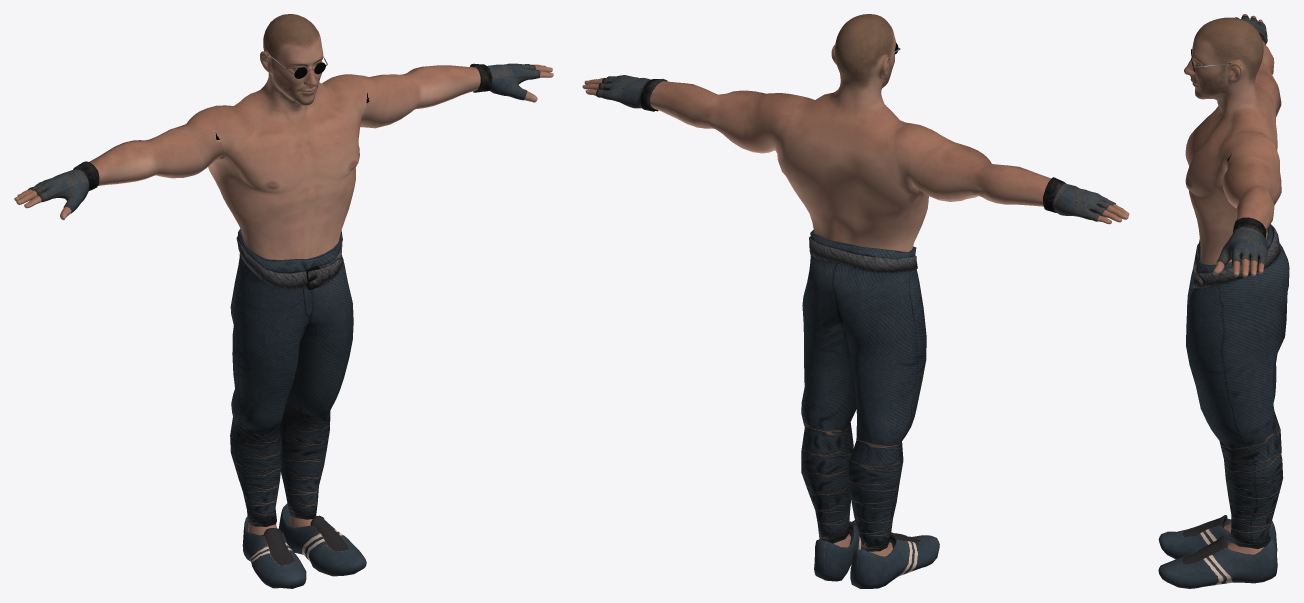
Rendered from Joni.obj.
3 views of the same model, side by side, from view 1: azimuth 30°, elevation 25°; view 2: azimuth 150°, elevation 25°; view 3: azimuth 270°, elevation 25° (orthographic).
Visible parts, largest first — view 1: Body, Bottoms, Shoes, Gloves; view 2: Body, Bottoms, Shoes, Gloves; view 3: Bottoms, Body, Shoes, Gloves.
Boxes of the visible parts, x1=… form: Body: x1=14, y1=14, x2=553, y2=535; Bottoms: x1=230, y1=229, x2=353, y2=526; Shoes: x1=242, y1=503, x2=366, y2=588; Gloves: x1=28, y1=63, x2=540, y2=213; Body: x1=582, y1=14, x2=1129, y2=556; Bottoms: x1=801, y1=230, x2=926, y2=551; Shoes: x1=814, y1=520, x2=939, y2=588; Gloves: x1=596, y1=75, x2=1115, y2=221; Bottoms: x1=1186, y1=224, x2=1289, y2=549; Body: x1=1184, y1=14, x2=1281, y2=554; Shoes: x1=1158, y1=515, x2=1277, y2=588; Gloves: x1=1216, y1=15, x2=1267, y2=267.
Size of the model in its own units: 18.37 by 17.91 by 3.86.
1 material, 1 textured.
